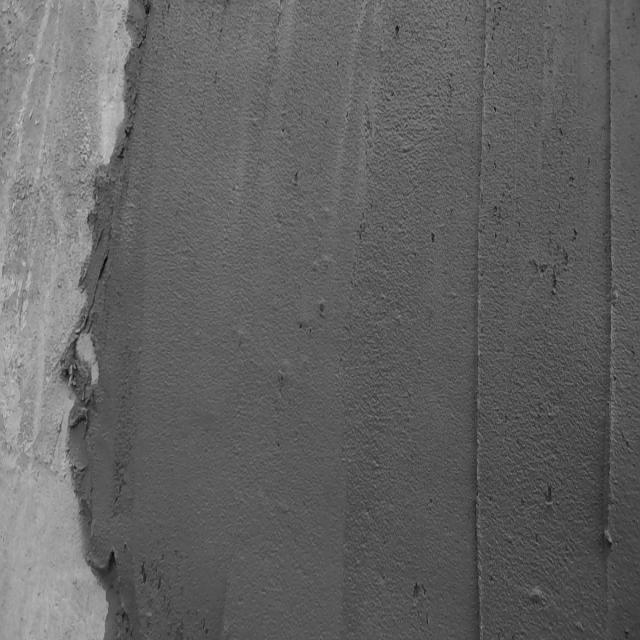trowels marks: (470, 1, 497, 640), (598, 0, 622, 591)
